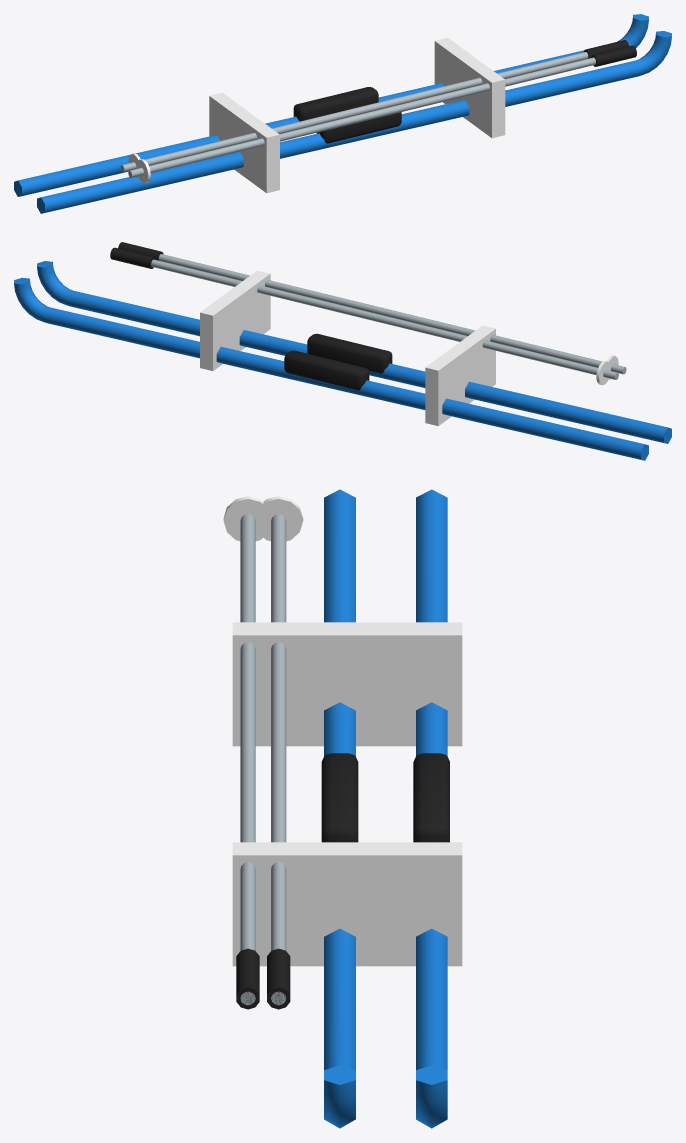
Rendered from skis.fbx.
3 renders of one model, top to bottom at view 1: azimuth 30°, elevation 25°; view 2: azimuth 150°, elevation 25°; view 3: azimuth 270°, elevation 25°, orthographic. The views are drawn at different scales.
Parts seen in each view (by area): view 1: Skis; view 2: Skis; view 3: Skis.
Boxes of the visible parts, x1,y1,x2,y2 form: Skis: (14,14,671,213); Skis: (14,242,671,460); Skis: (223,489,462,1128).
Bounding box in the file's own units: 4.76 × 0.43 × 0.78.
